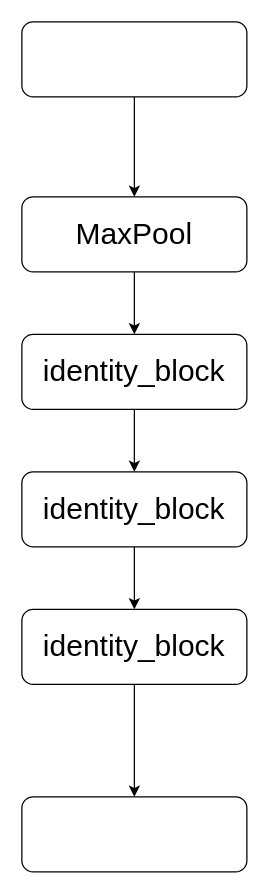
This 269x894 diagram has some shape labels left out. The shapes that lost their labels are listed below. From the top down, each one's centre as x and y in pixels, then its label:
At (x=134, y=59): "Input".
At (x=134, y=834): "Output".
